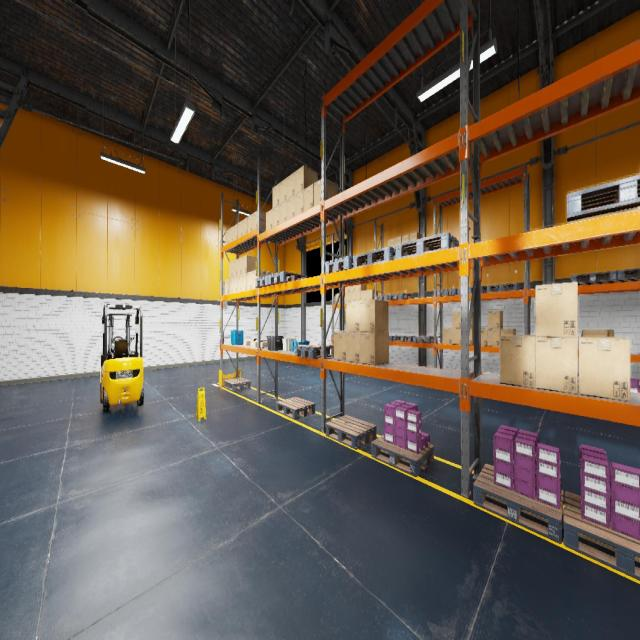box: (578, 337, 630, 401), (535, 337, 578, 394), (535, 281, 578, 338), (500, 335, 535, 388), (360, 332, 389, 365), (360, 299, 388, 332), (314, 178, 338, 206), (295, 166, 318, 194), (346, 300, 360, 332), (346, 332, 360, 363), (334, 331, 346, 361), (252, 270, 270, 289), (242, 255, 257, 274), (252, 210, 266, 230), (488, 310, 503, 328), (304, 184, 313, 211), (295, 190, 304, 216), (582, 329, 614, 336), (287, 172, 295, 199), (279, 178, 287, 204), (488, 329, 500, 346), (287, 195, 295, 219), (279, 200, 287, 223), (273, 183, 279, 208), (442, 328, 452, 343), (273, 205, 279, 227), (266, 208, 272, 230), (452, 328, 460, 344), (452, 312, 460, 328), (481, 328, 488, 346), (246, 271, 252, 290), (500, 328, 516, 335), (367, 289, 378, 299), (409, 232, 422, 240), (237, 257, 242, 276), (242, 217, 247, 235), (237, 274, 242, 292), (355, 284, 366, 291), (248, 214, 252, 232), (238, 220, 242, 238), (242, 273, 246, 291), (233, 259, 237, 277), (395, 236, 401, 248), (234, 223, 238, 240), (233, 276, 237, 293), (229, 277, 233, 294), (229, 261, 233, 278), (469, 328, 473, 345), (229, 226, 233, 242), (225, 228, 229, 244), (225, 278, 229, 294), (469, 312, 473, 328), (345, 292, 350, 304), (388, 238, 394, 248), (402, 234, 409, 242), (253, 336, 263, 341), (361, 290, 366, 300), (260, 342, 268, 348), (350, 292, 355, 301), (336, 293, 340, 304), (244, 340, 251, 346), (356, 291, 360, 300), (350, 286, 355, 292), (345, 286, 350, 292), (253, 342, 257, 348), (251, 340, 253, 346), (344, 296, 345, 304)
forklift: (100, 304, 144, 412)
pallets: (474, 464, 564, 543), (563, 491, 640, 580), (566, 174, 640, 223), (372, 436, 434, 476), (395, 232, 459, 259), (326, 414, 376, 448), (353, 246, 395, 268), (276, 397, 315, 420), (325, 256, 361, 274), (571, 271, 617, 285), (294, 344, 334, 358), (269, 272, 307, 284), (614, 268, 640, 282), (223, 378, 250, 391), (487, 283, 519, 292), (458, 286, 487, 294), (255, 276, 272, 288), (413, 336, 437, 343), (394, 335, 416, 342), (389, 293, 411, 300), (437, 289, 457, 296), (375, 294, 392, 300), (389, 335, 396, 341)
